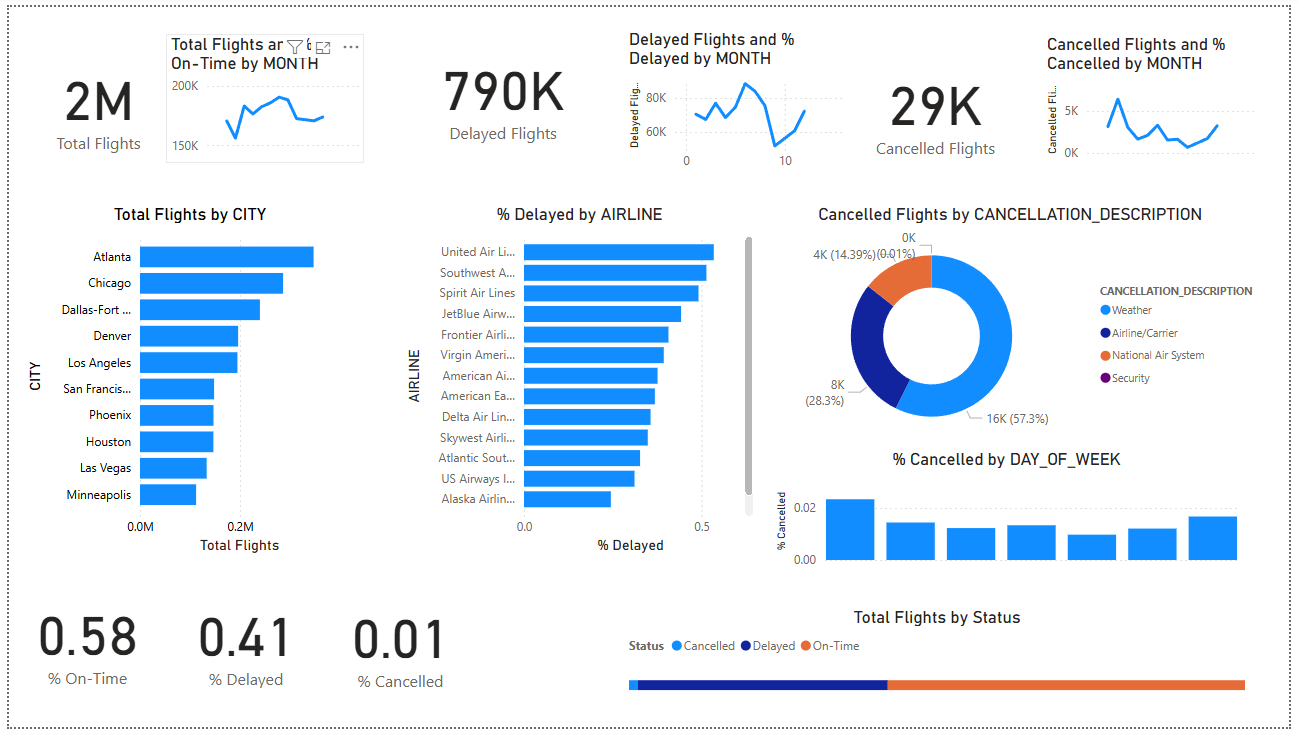

The dashboard page shown, as its layout file describes it:
{"tool":"powerbi","page":{"name":"US Flights Status","canvas":[1280,720],"ordinal":0},"visuals":[{"type":"card","title":"Total Flight","fields":{"Values":["flights.Total Flights"]},"box":[22,34,135,126],"z":0},{"type":"lineChart","fields":{"Y":["flights.Total Flights"],"Category":["flights.MONTH"]},"box":[157,27,198,129],"z":1000},{"type":"card","fields":{"Values":["flights.Delayed Flights"]},"box":[392,22,204,131],"z":2000},{"type":"lineChart","fields":{"Y":["flights.Delayed Flights"],"Category":["flights.MONTH"]},"box":[615,22,225,150],"z":3000},{"type":"card","fields":{"Values":["flights.Cancelled Flights"]},"box":[843,27,167,150],"z":4000},{"type":"lineChart","fields":{"Category":["flights.MONTH"],"Y":["flights.Cancelled Flights"]},"box":[1033,27,220,133],"z":5000},{"type":"card","fields":{"Values":["flights.% On-Time"]},"box":[0,578,215,124],"z":6000},{"type":"card","fields":{"Values":["flights.% Delayed"]},"box":[215,578,215,124],"z":7000},{"type":"card","fields":{"Values":["flights.% Cancelled"]},"box":[430,578,166,124],"z":8000},{"type":"clusteredBarChart","fields":{"Category":["airports.CITY"],"Y":["flights.Total Flights"]},"box":[13,197,336,354],"z":9000},{"type":"clusteredBarChart","fields":{"Category":["airlines.AIRLINE"],"Y":["flights.% Delayed"]},"box":[392,197,357,354],"z":10000},{"type":"donutChart","fields":{"Category":["cancellation_codes.CANCELLATION_DESCRIPTION"],"Y":["flights.Cancelled Flights"]},"box":[749,197,504,245],"z":11000},{"type":"clusteredColumnChart","fields":{"Category":["flights.DAY_OF_WEEK"],"Y":["flights.% Cancelled"]},"box":[799,453,454,133],"z":12000},{"type":"hundredPercentStackedBarChart","fields":{"Y":["flights.Total Flights"],"Series":["flights.Status"]},"box":[640,600,608,102],"z":13000}]}

Visuals, with their boxes in screenshot pixels (x1, y1, x2, y2), scaled from the page's 1280x720 canvas onto the 1298x738 screenshot:
"Total Flight" card: Rect(22, 35, 159, 164)
lineChart - flights.Total Flights x flights.MONTH: Rect(159, 28, 360, 160)
card - flights.Delayed Flights: Rect(398, 23, 604, 157)
lineChart - flights.Delayed Flights x flights.MONTH: Rect(624, 23, 852, 176)
card - flights.Cancelled Flights: Rect(855, 28, 1024, 181)
lineChart - flights.MONTH x flights.Cancelled Flights: Rect(1048, 28, 1271, 164)
card - flights.% On-Time: Rect(0, 592, 218, 720)
card - flights.% Delayed: Rect(218, 592, 436, 720)
card - flights.% Cancelled: Rect(436, 592, 604, 720)
clusteredBarChart - airports.CITY x flights.Total Flights: Rect(13, 202, 354, 565)
clusteredBarChart - airlines.AIRLINE x flights.% Delayed: Rect(398, 202, 760, 565)
donutChart - cancellation_codes.CANCELLATION_DESCRIPTION x flights.Cancelled Flights: Rect(760, 202, 1271, 453)
clusteredColumnChart - flights.DAY_OF_WEEK x flights.% Cancelled: Rect(810, 464, 1271, 601)
hundredPercentStackedBarChart - flights.Total Flights x flights.Status: Rect(649, 615, 1266, 720)
